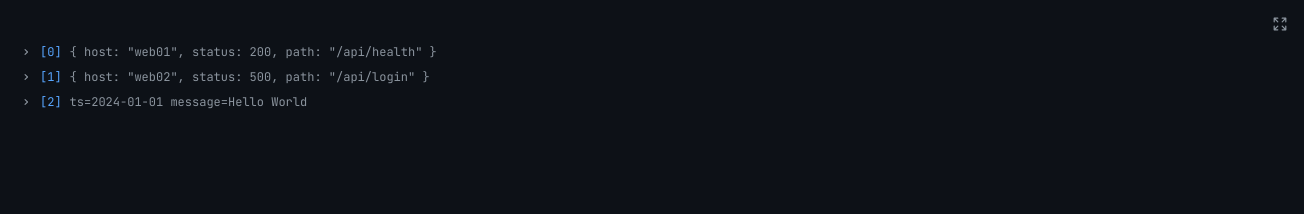
JsonBrowser › expands a single event on click
Click the text "[0]". click: x=51, y=52
box: [40,44,62,60]
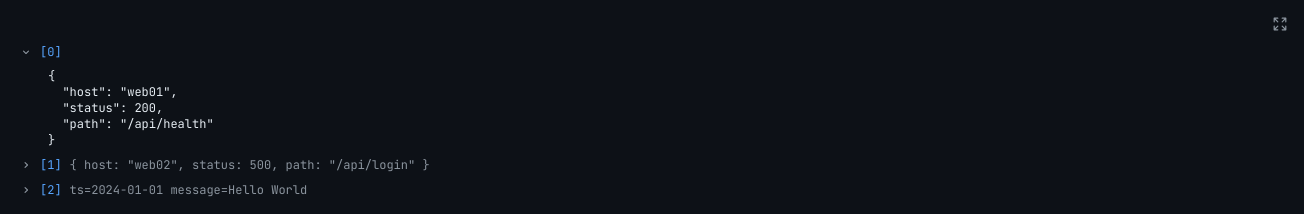
Expected: the text "{ \"host\": \"web01\", \"status\": 200, \"path\": \"/api/health\" }" is shown, [48,68,214,148]
